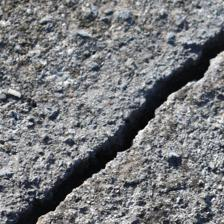Crack: (6, 16, 215, 202)
